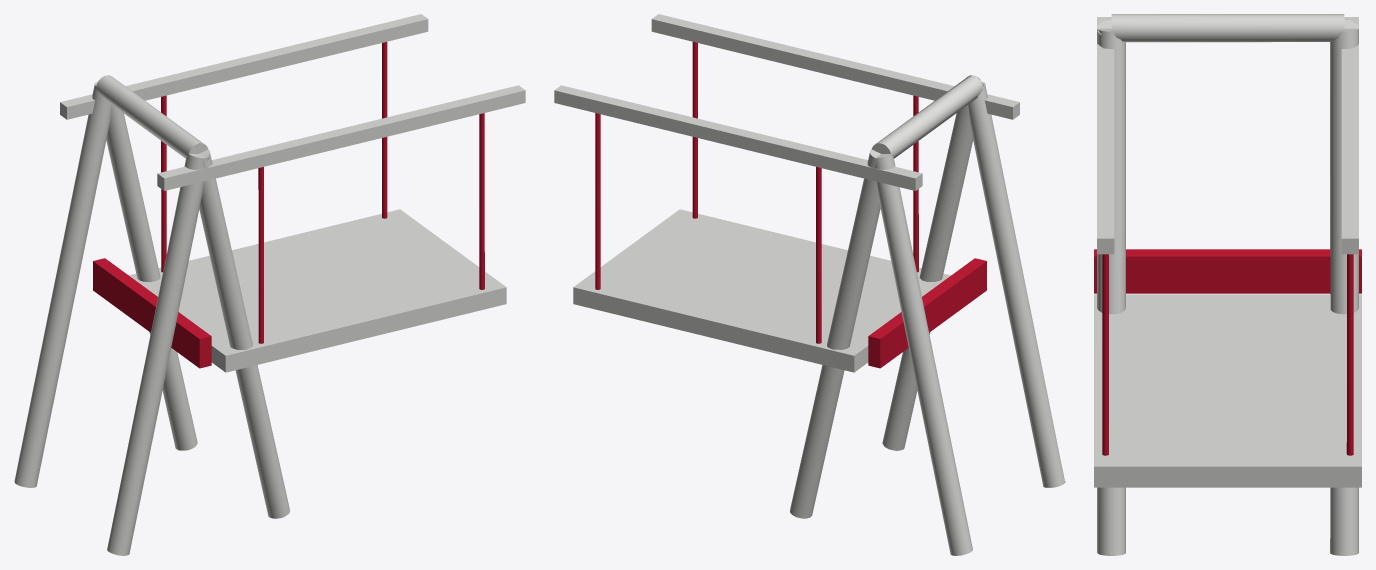
Rendered from c07-bridge-dutch-lift.lod1.glb.
The picture shows the model from 3 angles, left to right: view 1: azimuth 30°, elevation 25°; view 2: azimuth 150°, elevation 25°; view 3: azimuth 270°, elevation 25°; orthographic projection. The views are drawn at different scales.
Parts seen in each view (by area): view 1: part7, part2, part0, part1, part5, part6, part3, part12, part4, part10, part8, part11 (+1 smaller); view 2: part7, part2, part0, part3, part6, part5, part1, part12, part4, part11, part9, part10 (+1 smaller); view 3: part7, part12, part4, part1, part3, part5, part6, part11, part10.
Boxes of the visible parts, bbox=[...] form: part7: bbox=[129, 209, 506, 372]; part2: bbox=[14, 82, 111, 487]; part0: bbox=[107, 153, 209, 555]; part1: bbox=[199, 149, 290, 518]; part5: bbox=[157, 85, 525, 190]; part6: bbox=[60, 14, 428, 119]; part3: bbox=[106, 104, 197, 450]; part12: bbox=[93, 258, 211, 368]; part4: bbox=[96, 75, 208, 158]; part10: bbox=[479, 113, 484, 289]; part8: bbox=[258, 167, 263, 343]; part11: bbox=[382, 42, 387, 218]; part7: bbox=[573, 209, 950, 372]; part2: bbox=[873, 154, 972, 555]; part0: bbox=[968, 82, 1065, 487]; part3: bbox=[789, 149, 880, 518]; part6: bbox=[554, 85, 922, 190]; part5: bbox=[651, 14, 1019, 119]; part1: bbox=[882, 105, 973, 450]; part12: bbox=[868, 258, 986, 368]; part4: bbox=[871, 75, 983, 158]; part11: bbox=[595, 113, 600, 289]; part9: bbox=[816, 167, 821, 343]; part10: bbox=[692, 42, 697, 218]; part7: bbox=[1094, 294, 1361, 487]; part12: bbox=[1094, 249, 1361, 293]; part4: bbox=[1111, 14, 1344, 42]; part1: bbox=[1097, 28, 1125, 555]; part3: bbox=[1330, 28, 1358, 555]; part5: bbox=[1097, 17, 1114, 254]; part6: bbox=[1341, 17, 1358, 254]; part11: bbox=[1346, 254, 1353, 455]; part10: bbox=[1102, 254, 1108, 455].
Bounding box in the file's own units: 10241 × 9303 × 4600.
